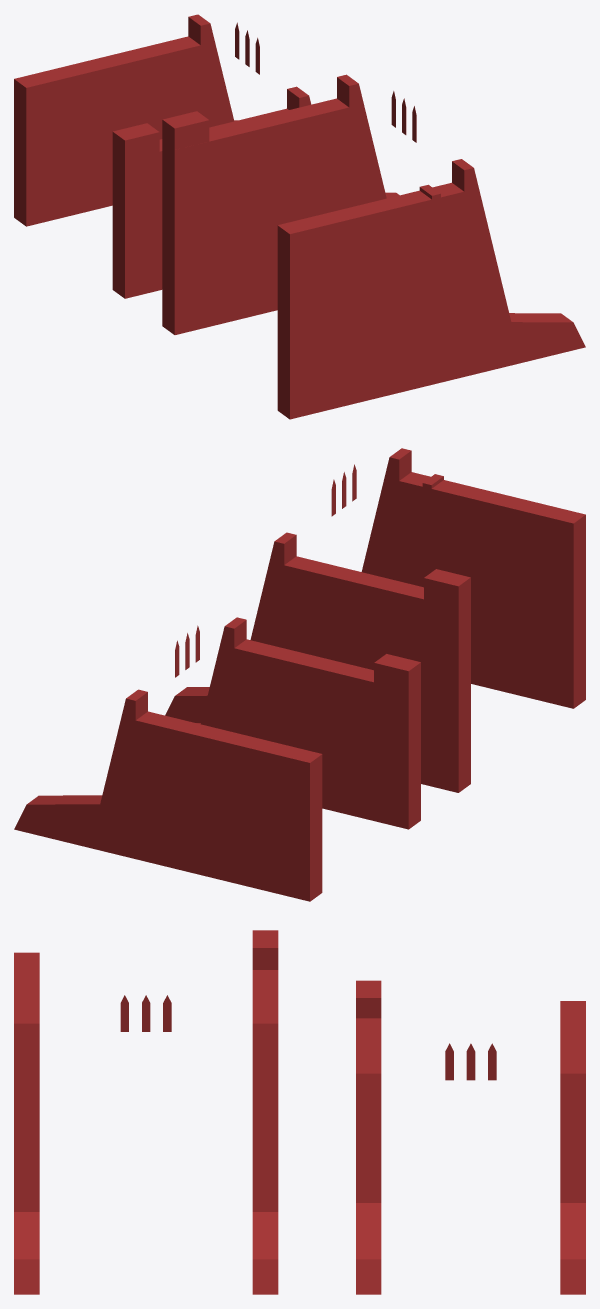
Rendered from supplier_extra.dae.
3 renders of one model, top to bottom at view 1: azimuth 30°, elevation 25°; view 2: azimuth 150°, elevation 25°; view 3: azimuth 270°, elevation 25°, orthographic. The views are drawn at different scales.
Parts seen in each view (by area): view 1: supplier_wall; view 2: supplier_wall; view 3: supplier_wall.
Boxes of the visible parts, x1=… form: supplier_wall: x1=14, y1=14, x2=585, y2=419; supplier_wall: x1=14, y1=448, x2=585, y2=901; supplier_wall: x1=14, y1=930, x2=585, y2=1294.
Bounding box in the file's own units: 1.66 × 2.68 × 1.24.
